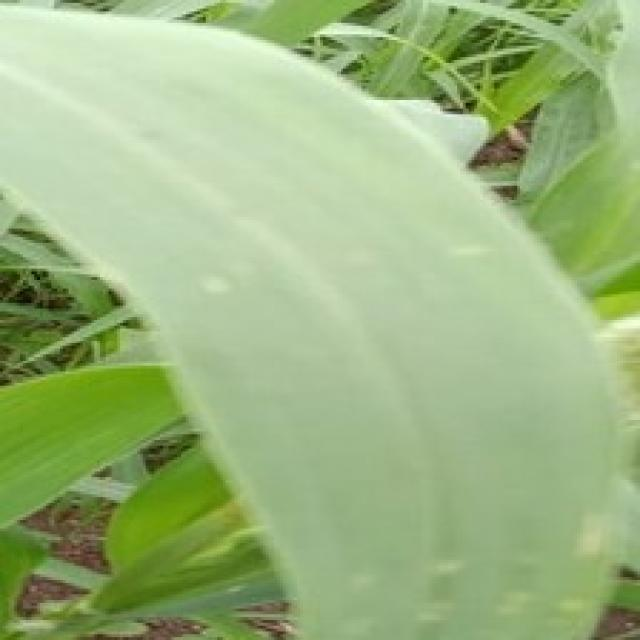Corn: (0, 0, 629, 637), (88, 440, 283, 617), (0, 357, 186, 537), (0, 520, 49, 637)
